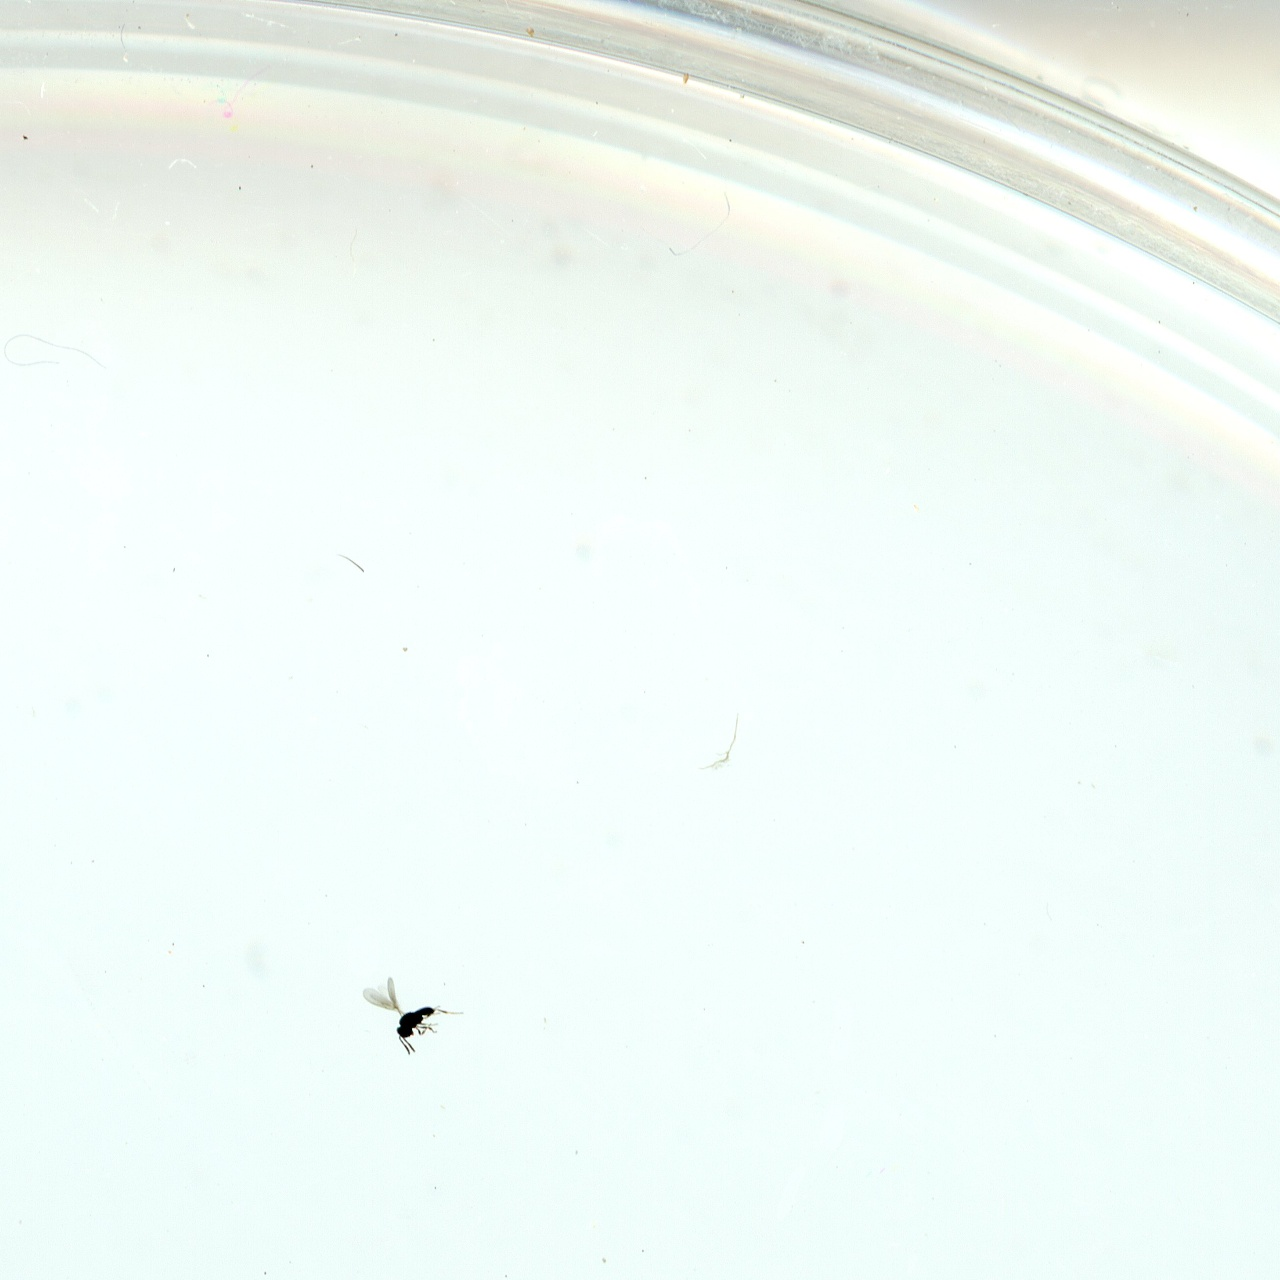arthropod: (358, 974, 463, 1050)
